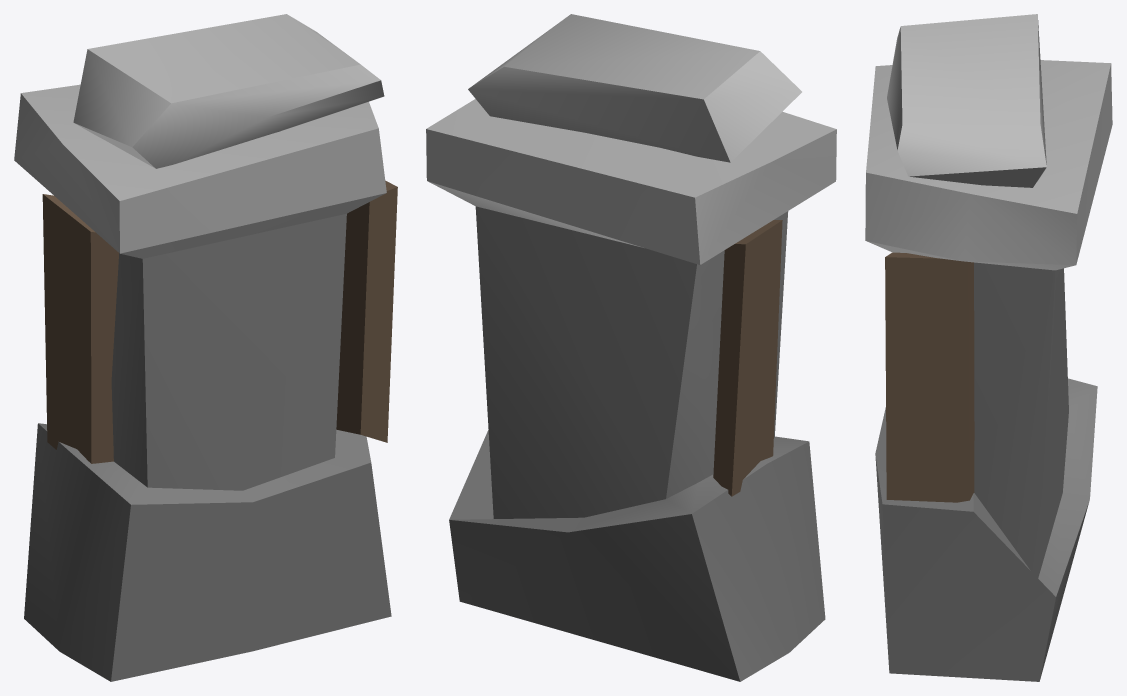
The model's file is EA03_Fence_rockDesk_End_01a.glb.
3 renders of one model, left to right at view 1: azimuth 30°, elevation 25°; view 2: azimuth 150°, elevation 25°; view 3: azimuth 270°, elevation 25°, orthographic. The views are drawn at different scales.
Visible parts, largest first — view 1: EA03_Fence_rockDesk_End_01a; view 2: EA03_Fence_rockDesk_End_01a; view 3: EA03_Fence_rockDesk_End_01a.
Part boxes in pixels (x1=…): EA03_Fence_rockDesk_End_01a: x1=14, y1=14, x2=397, y2=681; EA03_Fence_rockDesk_End_01a: x1=426, y1=14, x2=836, y2=681; EA03_Fence_rockDesk_End_01a: x1=865, y1=14, x2=1112, y2=681.
Bounding box in the file's own units: 0.723 × 1.23 × 0.5009.
Materials: 1 (1 with a texture image).
